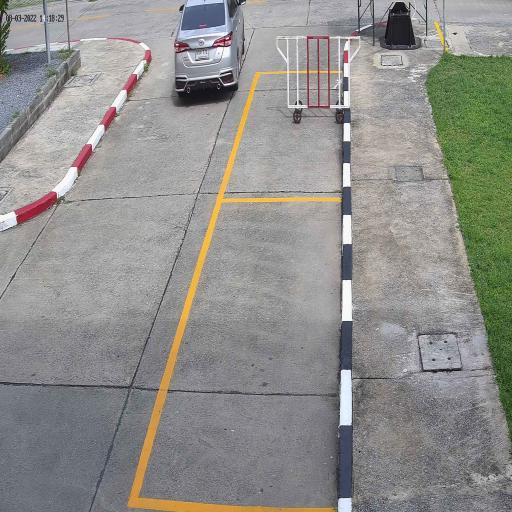car: (172, 0, 246, 99)
